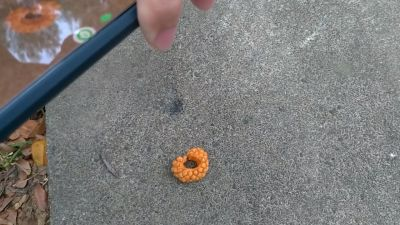eggs: (170, 147, 210, 184)
